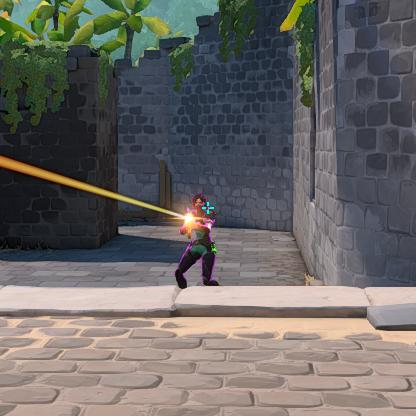enemyBody: (193, 215, 207, 244)
enemyHead: (193, 198, 204, 211)
